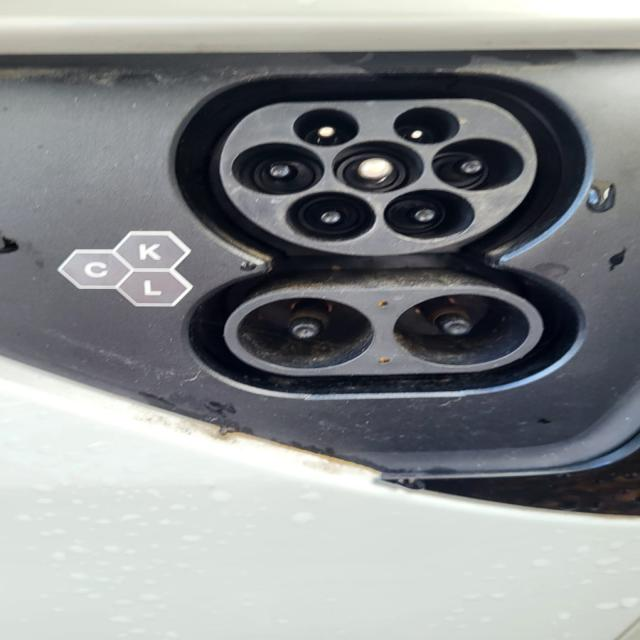inlet: (220, 98, 538, 255)
inlet-above-left: (293, 108, 362, 146)
inlet-above-right: (394, 107, 461, 144)
inlet-below-left: (287, 191, 378, 242)
inlet-below-right: (385, 188, 475, 240)
inlet-circle: (331, 140, 426, 194)
inlet-circle-left: (231, 143, 326, 195)
inlet-circle-right: (432, 137, 525, 191)
inlet-minus: (394, 293, 530, 366)
inlet-plus: (238, 297, 375, 369)
